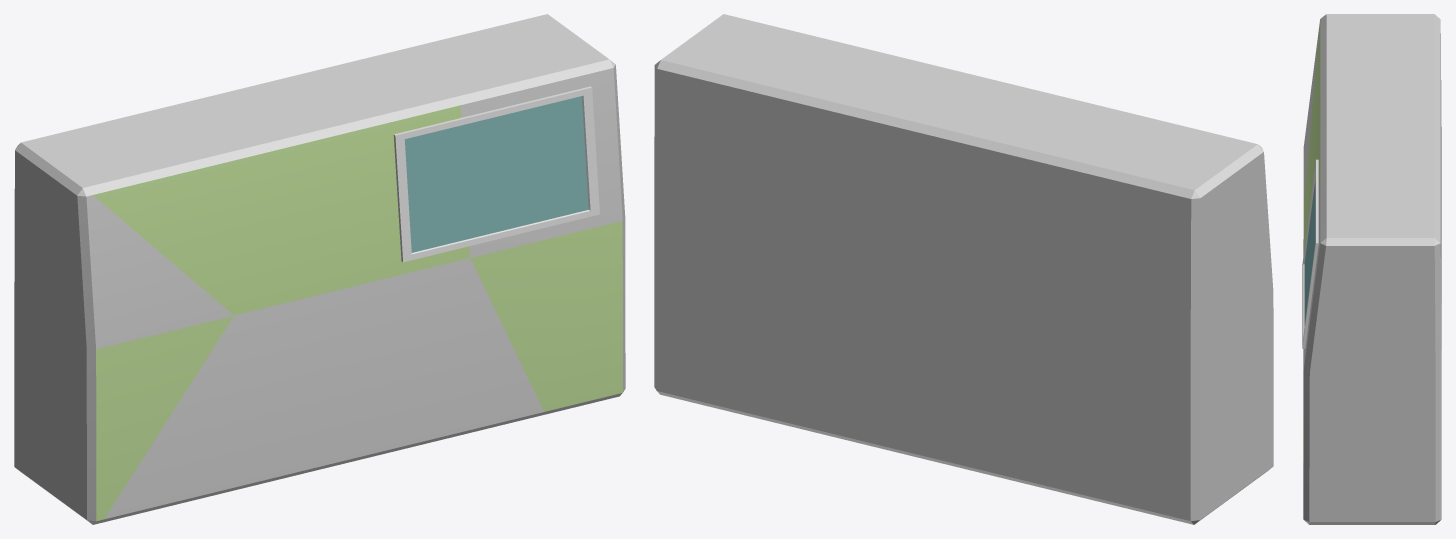
Rendered from AiportCounter.fbx.
3 renders of one model, left to right at view 1: azimuth 30°, elevation 25°; view 2: azimuth 150°, elevation 25°; view 3: azimuth 270°, elevation 25°, orthographic. The views are drawn at different scales.
Parts seen in each view (by area): view 1: Counter; view 2: Counter; view 3: Counter.
Boxes of the visible parts, x1=… form: Counter: x1=14, y1=14, x2=625, y2=524; Counter: x1=654, y1=14, x2=1273, y2=524; Counter: x1=1302, y1=14, x2=1441, y2=524.
Bounding box in the file's own units: 12.68 × 7.42 × 3.26.
